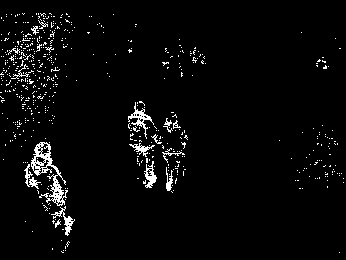person: (23, 139, 77, 251), (125, 100, 160, 187), (154, 109, 190, 193)
